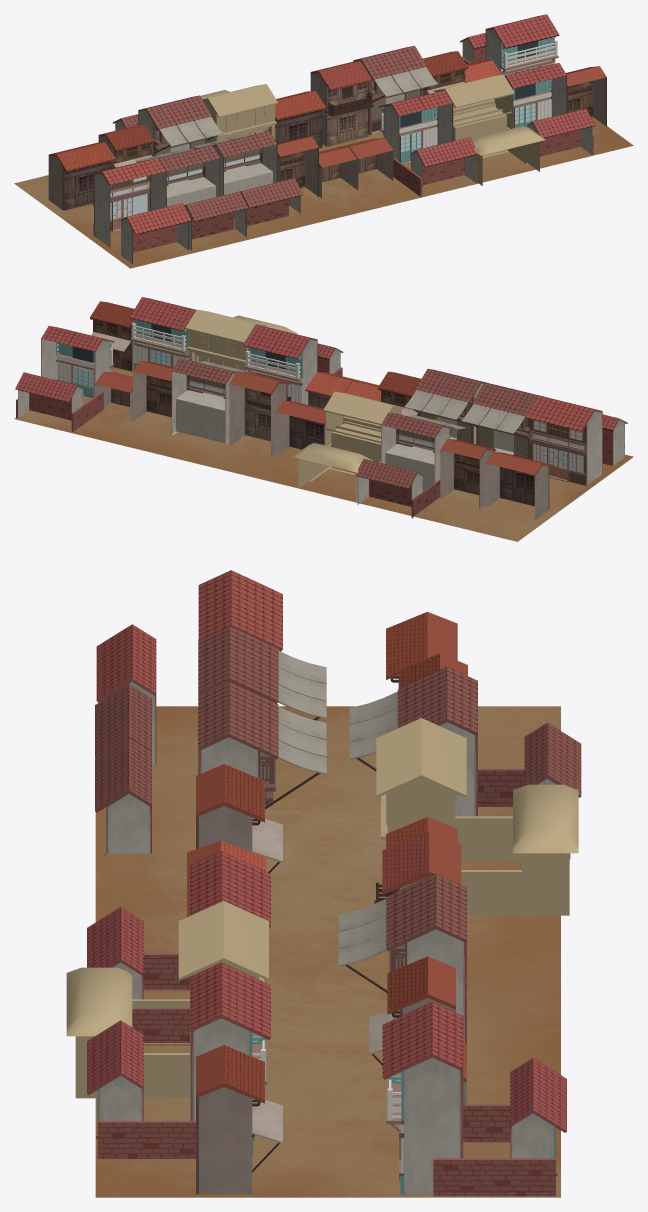
The picture shows the model from 3 angles, top to bottom: view 1: azimuth 30°, elevation 25°; view 2: azimuth 150°, elevation 25°; view 3: azimuth 270°, elevation 25°; orthographic projection. The views are drawn at different scales.
Parts seen in each view (by area): view 1: Box001, Box008, Shop002, Shop003, B005, Inn, A003, Shop, Shop001, A1, Restaurant001, Box006 (+13 smaller); view 2: Box001, Shop, B005, Box006, Shop001, A003, Shop003, A1, A005, Inn, Box008, Shop002 (+12 smaller); view 3: Box001, Box006, Shop002, Box008, A1, Shop, A0, Shop003, Pharmacy002, Shop001, A004, A005 (+11 smaller).
Part boxes in pixels (<box>): Box001: <box>14,117,633,268</box>; Box008: <box>433,74,545,185</box>; Shop002: <box>192,131,303,236</box>; Shop003: <box>135,145,248,250</box>; B005: <box>89,158,166,247</box>; Inn: <box>310,61,373,146</box>; A003: <box>379,90,452,163</box>; Shop: <box>113,95,222,156</box>; Shop001: <box>353,45,437,135</box>; A1: <box>485,14,559,75</box>; Restaurant001: <box>48,142,115,210</box>; Box006: <box>200,84,277,142</box>; Box001: <box>14,367,633,541</box>; Shop: <box>355,412,465,518</box>; B005: <box>525,396,602,485</box>; Box006: <box>292,391,404,502</box>; Shop001: <box>171,358,255,444</box>; A003: <box>244,325,317,404</box>; Shop003: <box>461,382,544,458</box>; A1: <box>41,326,114,398</box>; A005: <box>129,297,195,369</box>; Inn: <box>229,371,290,456</box>; Box008: <box>185,309,297,371</box>; Shop002: <box>404,368,488,444</box>; Box001: <box>95,706,560,1197</box>; Box006: <box>376,718,578,915</box>; Shop002: <box>95,681,326,855</box>; Box008: <box>66,901,268,1098</box>; A1: <box>382,1002,463,1194</box>; Shop: <box>349,666,581,858</box>; A0: <box>433,1058,566,1196</box>; Shop003: <box>95,626,326,758</box>; Pharmacy002: <box>196,1045,282,1194</box>; Shop001: <box>338,874,466,1066</box>; A004: <box>87,1020,195,1158</box>; A005: <box>190,962,270,1154</box>.
Size of the model in its own units: 30 by 4.47 by 13.27.
